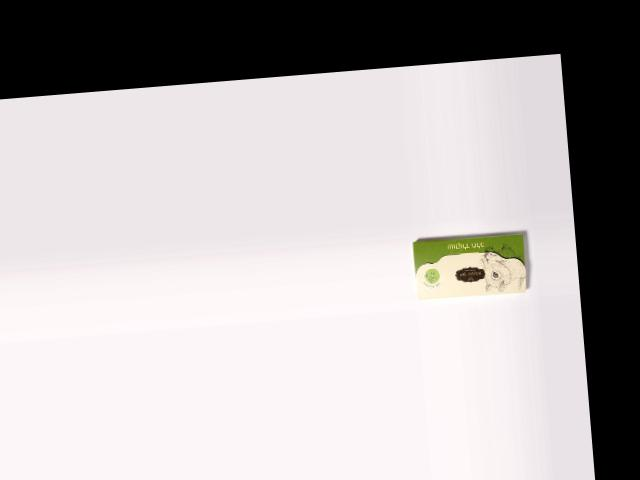chocolate: (411, 231, 529, 302)
